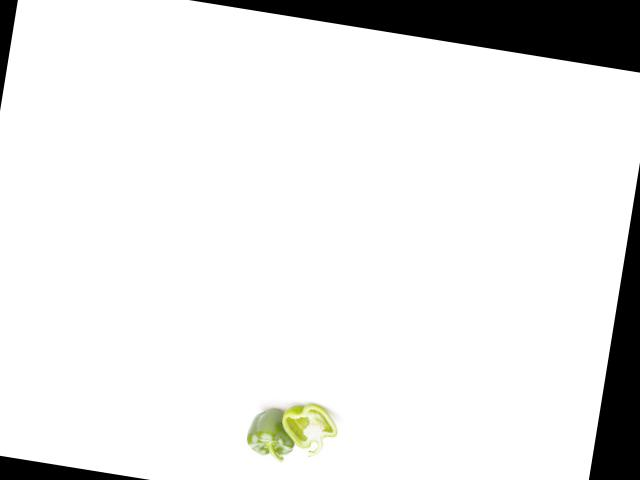bell_pepper: (274, 400, 343, 463)
